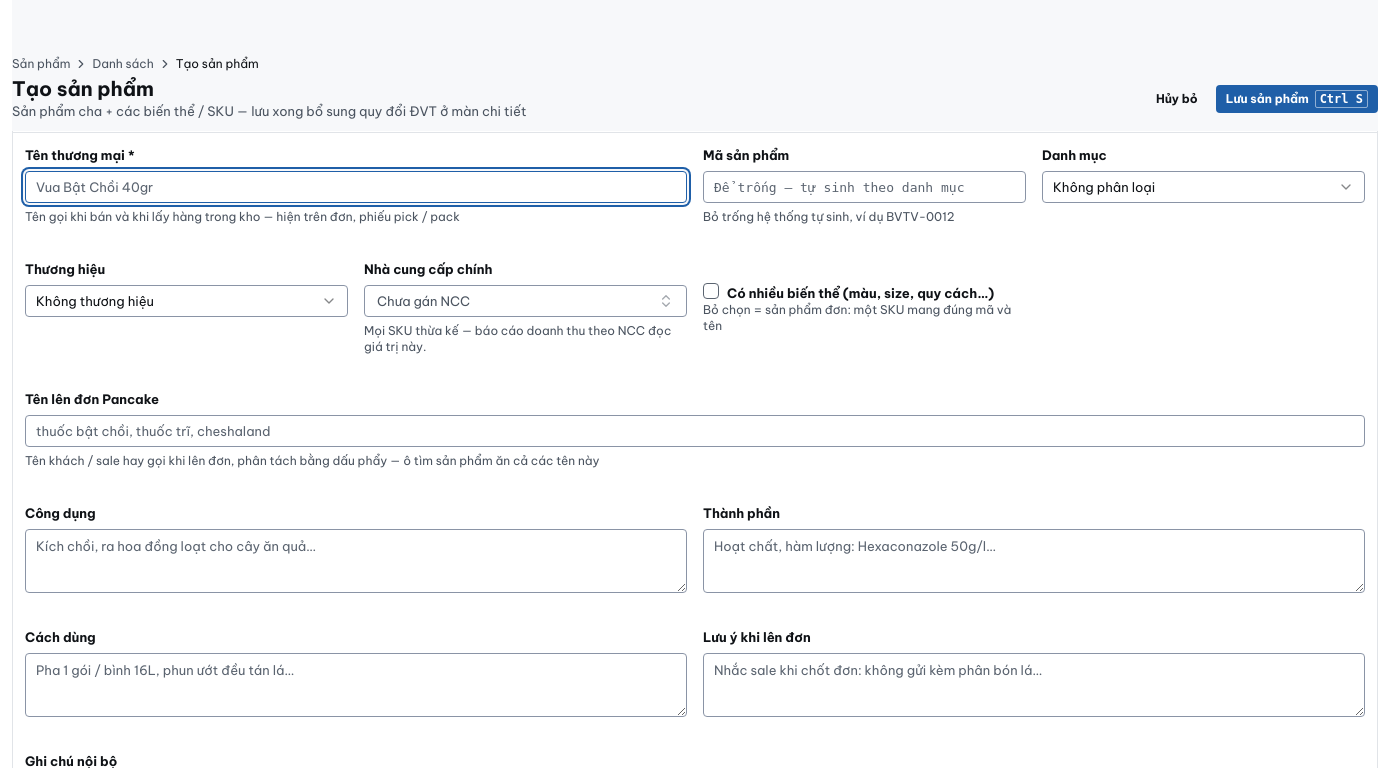
it: ProductFormScreen — tạo (design/Products/ProductForm) › validate chặn submit rỗng, KHÔNG gọi API
Step 1. Click the button "Lưu sản phẩm Ctrl S" → (1297, 98), box top-left (1216, 84), bottom-right (1378, 112)
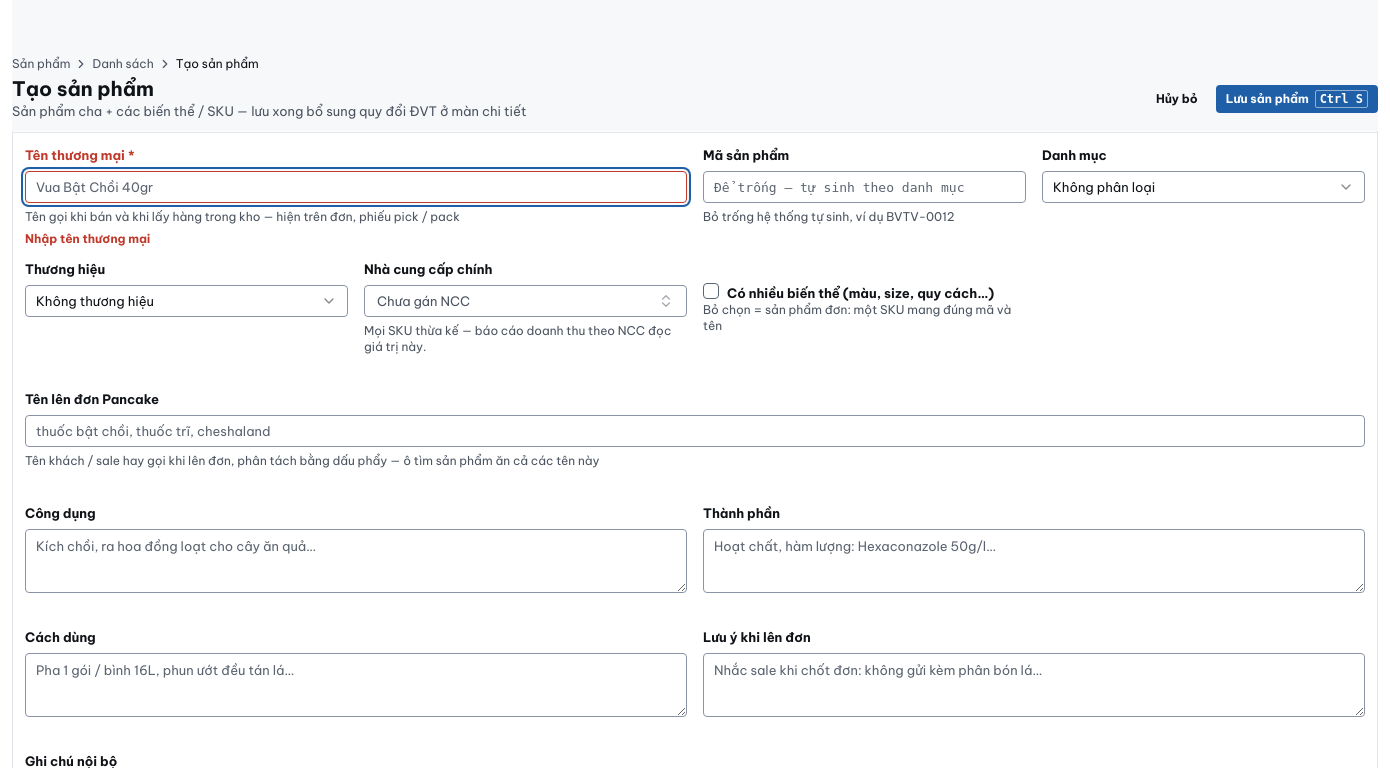
Expected: the text "Nhập tên thương mại" is shown, top-left (25, 231), bottom-right (150, 246)
